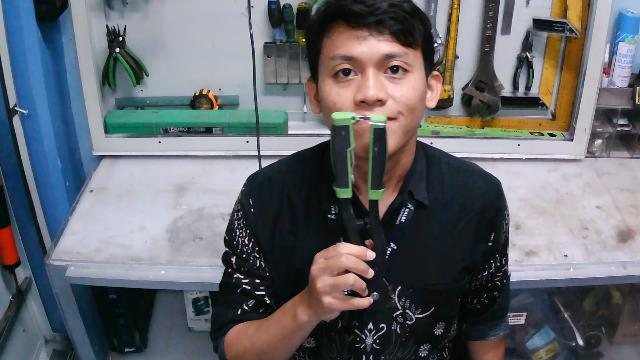tang_rivet: (325, 113, 390, 295)
